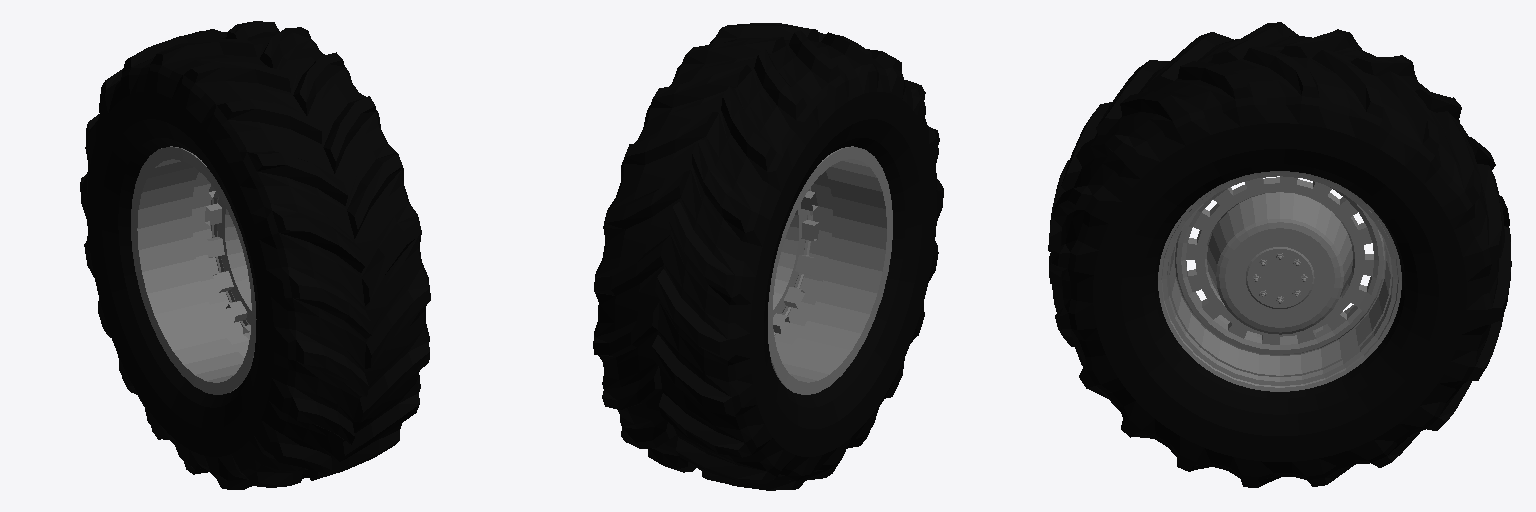
The picture shows the model from 3 angles: view 1: azimuth 30°, elevation 25°; view 2: azimuth 150°, elevation 25°; view 3: azimuth 270°, elevation 25°; orthographic projection.
Visible parts, largest first — view 1: Non_subD, subDx; view 2: Non_subD, subDx; view 3: Non_subD, subDx.
Part boxes in pixels (left/top/right/bottom): Non_subD: left=80, top=21, right=430, bottom=489; subDx: left=131, top=146, right=256, bottom=394; Non_subD: left=593, top=23, right=943, bottom=490; subDx: left=768, top=146, right=892, bottom=394; Non_subD: left=1048, top=22, right=1511, bottom=487; subDx: left=1158, top=171, right=1401, bottom=391.
Bounding box in the file's own units: 0.2901 × 0.7736 × 0.7736.